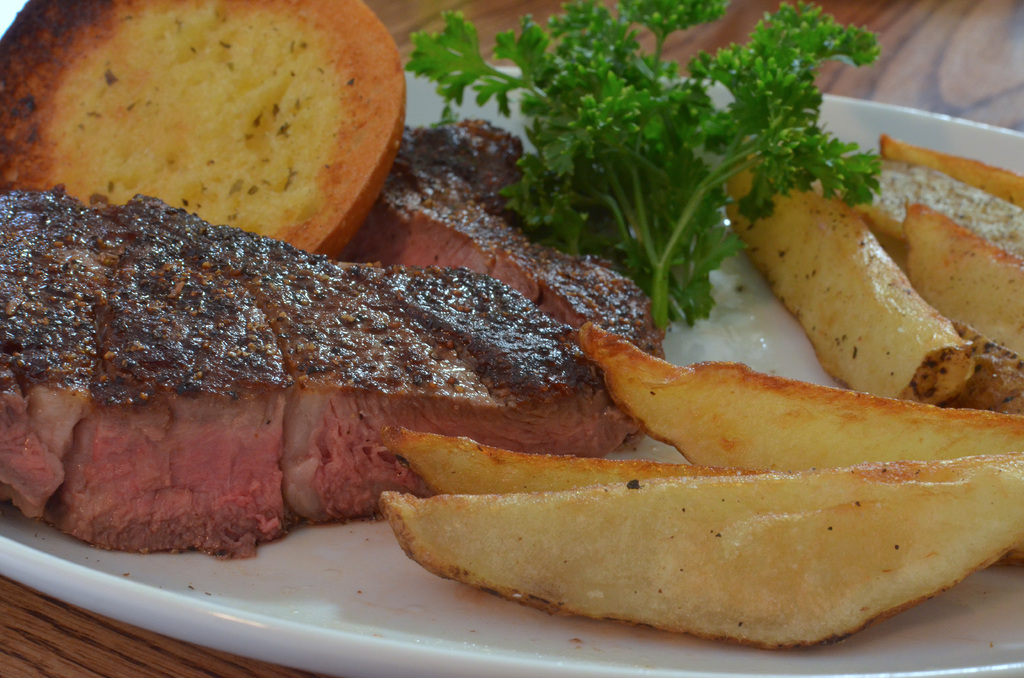French fries: (354, 309, 1024, 605)
